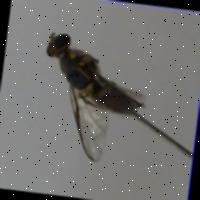Oriental-fruit-fly: (24, 22, 164, 172)
